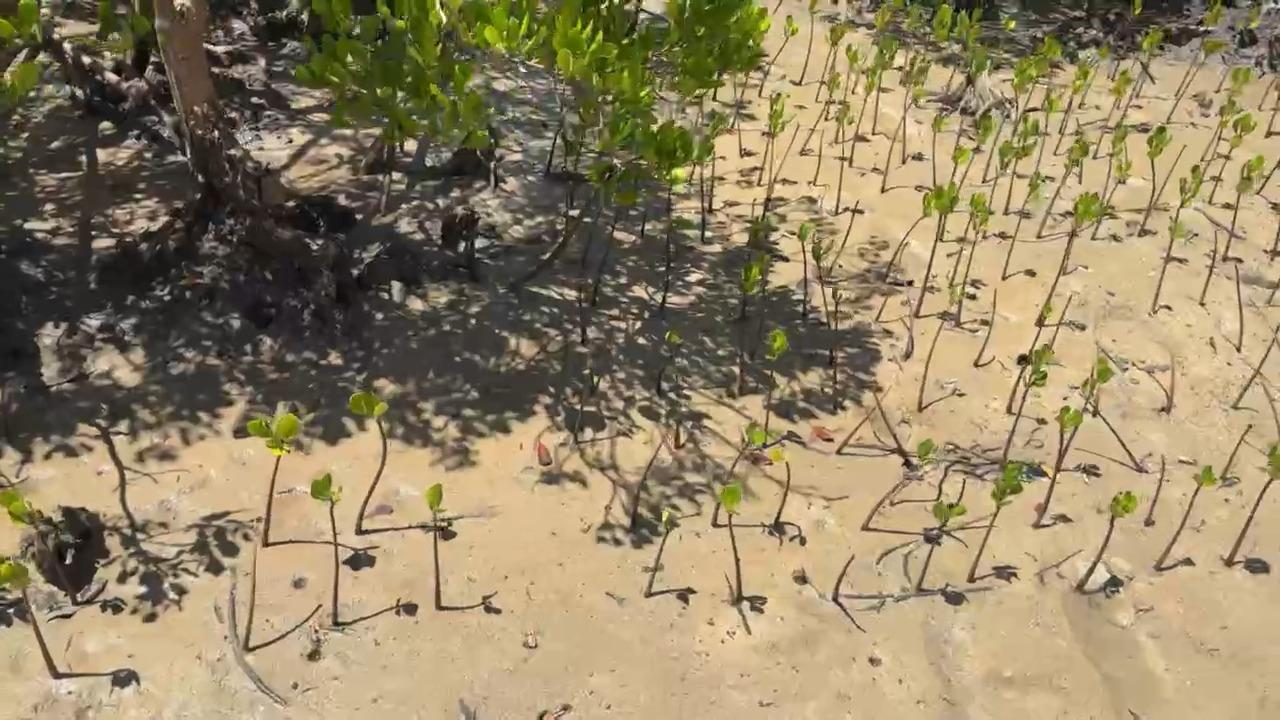Tree: (0, 487, 78, 605), (1036, 193, 1104, 324), (245, 414, 305, 549), (965, 464, 1026, 584), (0, 556, 58, 679), (862, 439, 937, 533), (1155, 464, 1218, 571), (913, 183, 962, 320), (1226, 443, 1280, 566), (1075, 490, 1136, 592), (1002, 346, 1055, 459), (710, 423, 767, 527), (350, 389, 389, 536), (1036, 139, 1092, 241), (1034, 408, 1082, 526), (880, 86, 932, 194), (1060, 360, 1112, 467), (310, 473, 345, 624), (1006, 304, 1053, 415), (885, 189, 942, 278), (1201, 67, 1254, 162), (1167, 38, 1226, 123), (1001, 171, 1047, 278), (915, 499, 967, 591), (1223, 154, 1266, 262), (1080, 400, 1146, 469), (958, 193, 993, 322), (1209, 113, 1256, 206), (1175, 4, 1222, 96), (736, 214, 776, 318), (1217, 4, 1263, 94), (1089, 153, 1135, 241), (835, 384, 892, 455), (1093, 67, 1136, 161), (1233, 325, 1280, 410), (981, 141, 1021, 240), (1139, 123, 1174, 235), (900, 55, 936, 162), (1003, 119, 1041, 214), (802, 71, 845, 154), (715, 483, 745, 601), (943, 6, 983, 94), (1151, 220, 1187, 314), (958, 109, 1001, 187), (810, 240, 837, 363), (939, 143, 974, 237), (759, 15, 799, 97), (872, 34, 904, 136), (834, 44, 866, 145), (658, 217, 690, 313), (760, 330, 786, 446), (1022, 36, 1061, 113), (868, 388, 909, 459), (644, 513, 679, 596), (629, 442, 663, 527), (849, 71, 878, 169), (1101, 120, 1134, 204), (1058, 53, 1091, 134), (1112, 0, 1144, 83), (590, 215, 620, 303), (426, 483, 447, 608), (766, 105, 793, 201), (757, 93, 785, 185), (918, 318, 946, 410), (1207, 101, 1245, 165), (816, 25, 848, 99), (833, 102, 854, 213), (960, 46, 994, 113), (830, 199, 859, 275), (1135, 27, 1165, 99), (901, 3, 931, 74), (1154, 143, 1187, 206), (979, 116, 1008, 185), (1010, 60, 1036, 135), (656, 330, 686, 391), (1220, 425, 1253, 479), (771, 448, 793, 528), (975, 287, 997, 366), (1080, 43, 1106, 109), (243, 542, 259, 648), (1175, 166, 1204, 223), (774, 124, 802, 183), (832, 287, 845, 398), (801, 2, 818, 84), (797, 223, 811, 322), (873, 0, 908, 39), (1201, 231, 1219, 305), (1147, 455, 1166, 522), (732, 71, 747, 155), (930, 112, 945, 189), (1051, 295, 1072, 348), (931, 4, 954, 49), (833, 554, 855, 601), (698, 159, 710, 244), (1235, 265, 1246, 353), (1256, 159, 1280, 196), (755, 254, 772, 306), (1052, 114, 1073, 155), (1265, 94, 1280, 139), (1258, 77, 1277, 111), (814, 129, 825, 183), (710, 147, 717, 214), (581, 285, 587, 342), (1268, 278, 1280, 306), (1168, 356, 1174, 411), (1271, 225, 1280, 261), (639, 205, 648, 234)
